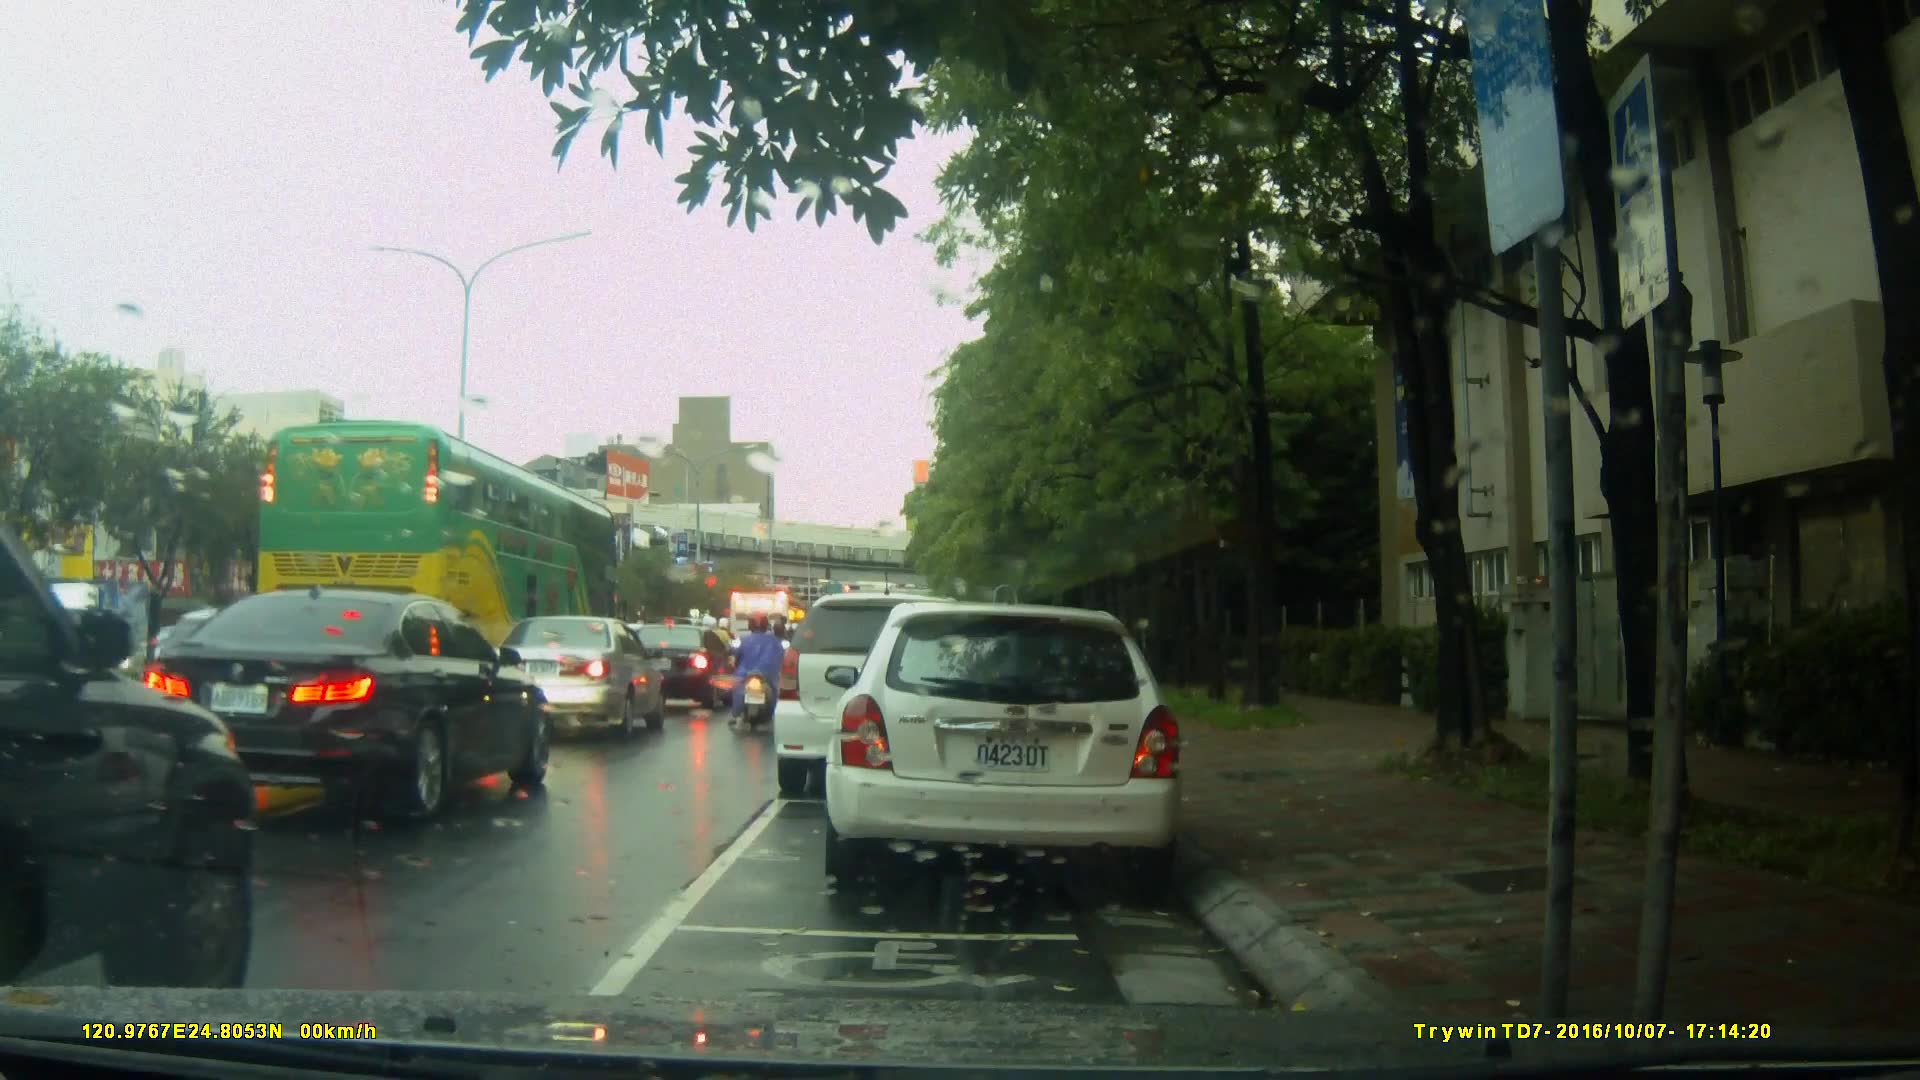rider: (727, 605, 788, 727)
vehicle: (1, 498, 262, 992), (831, 592, 1196, 897), (134, 587, 557, 825), (252, 418, 626, 658), (771, 592, 999, 796), (478, 614, 667, 747), (623, 623, 735, 713), (719, 586, 802, 705)
